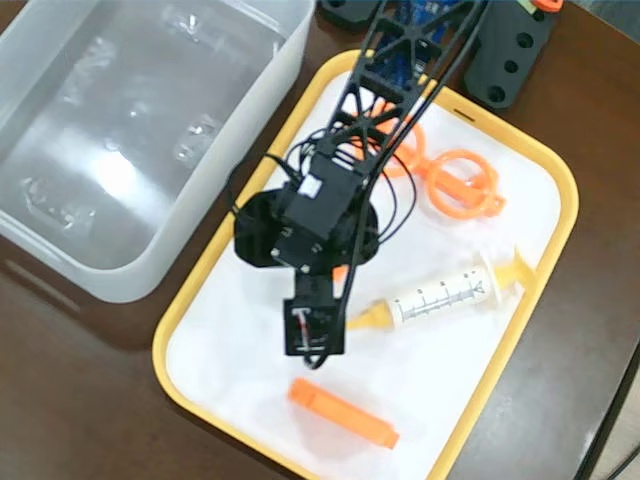syringe: (349, 241, 538, 348)
